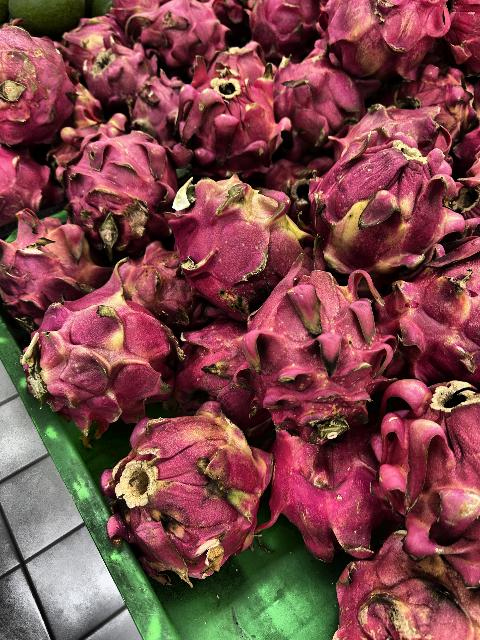buah-naga-belum-matang: (108, 396, 264, 574), (24, 280, 170, 422), (376, 363, 480, 554), (319, 128, 443, 274), (330, 530, 480, 640), (173, 162, 297, 292), (392, 256, 480, 376), (0, 211, 98, 307), (326, 0, 436, 66), (398, 65, 476, 143), (342, 98, 430, 150)
buah-naga-matang: (250, 266, 382, 430), (263, 420, 389, 548), (70, 123, 174, 241), (177, 66, 278, 164), (1, 23, 74, 139), (176, 327, 260, 419), (270, 61, 356, 130), (117, 246, 197, 318), (1, 140, 61, 222), (146, 1, 224, 64), (248, 0, 320, 58), (83, 39, 147, 95), (138, 79, 182, 135)
